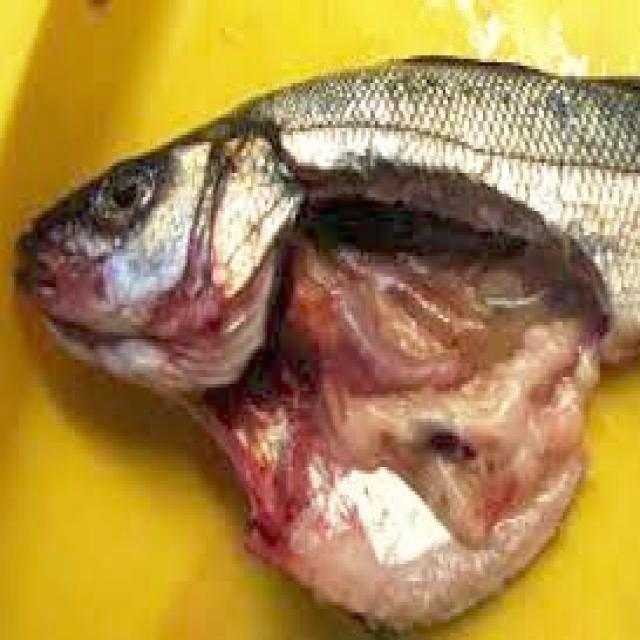Epizootic Ulcerative Syndrome -EUS-: (14, 56, 639, 634)
